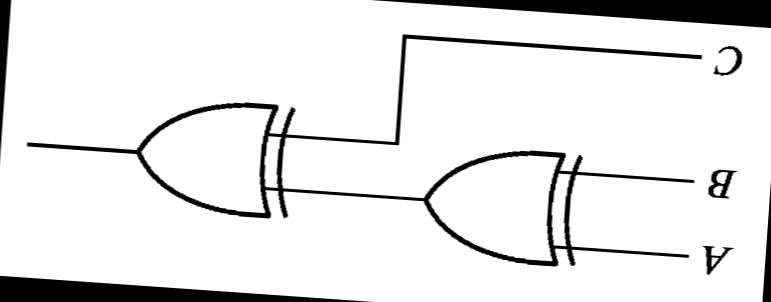xor: (411, 138, 589, 274), (124, 90, 300, 226)
